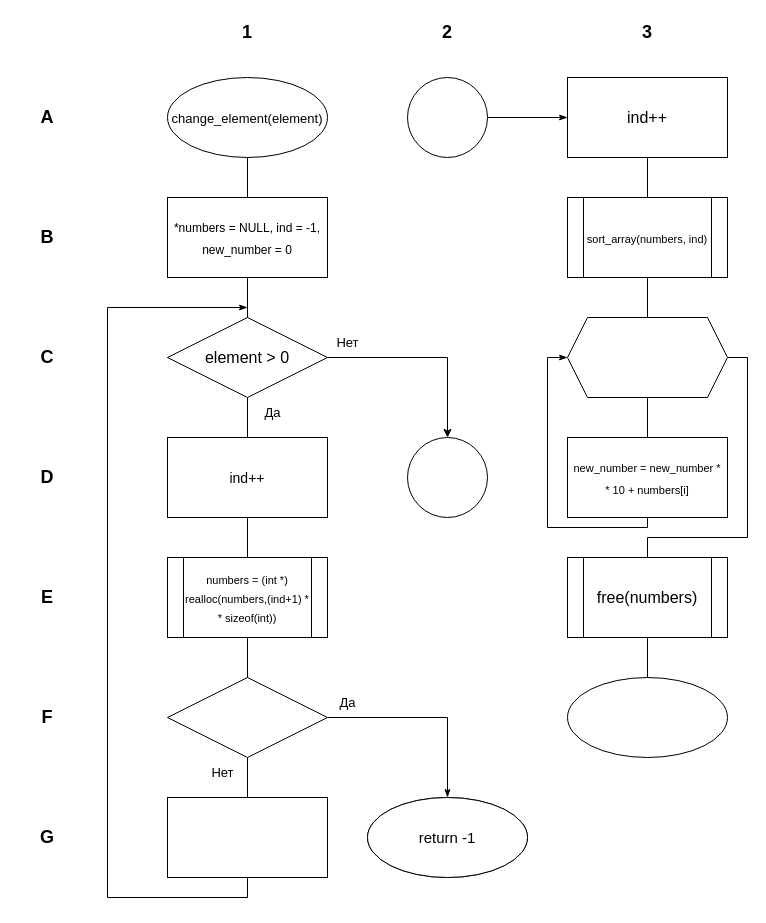
Some shapes in this 766 by 923 pixel diagram are drawn without their labels. Each missing label, with the box of its shape:
!(numbers) & (ind+1) != 0: (166, 676, 328, 758)
A3: (406, 436, 488, 518)
C1: (406, 76, 488, 158)
i = 0, i < ind, i++: (566, 316, 728, 398)
numbers[ind] = element % 10 element /= 10: (166, 796, 328, 878)
return new_number: (566, 676, 728, 758)
